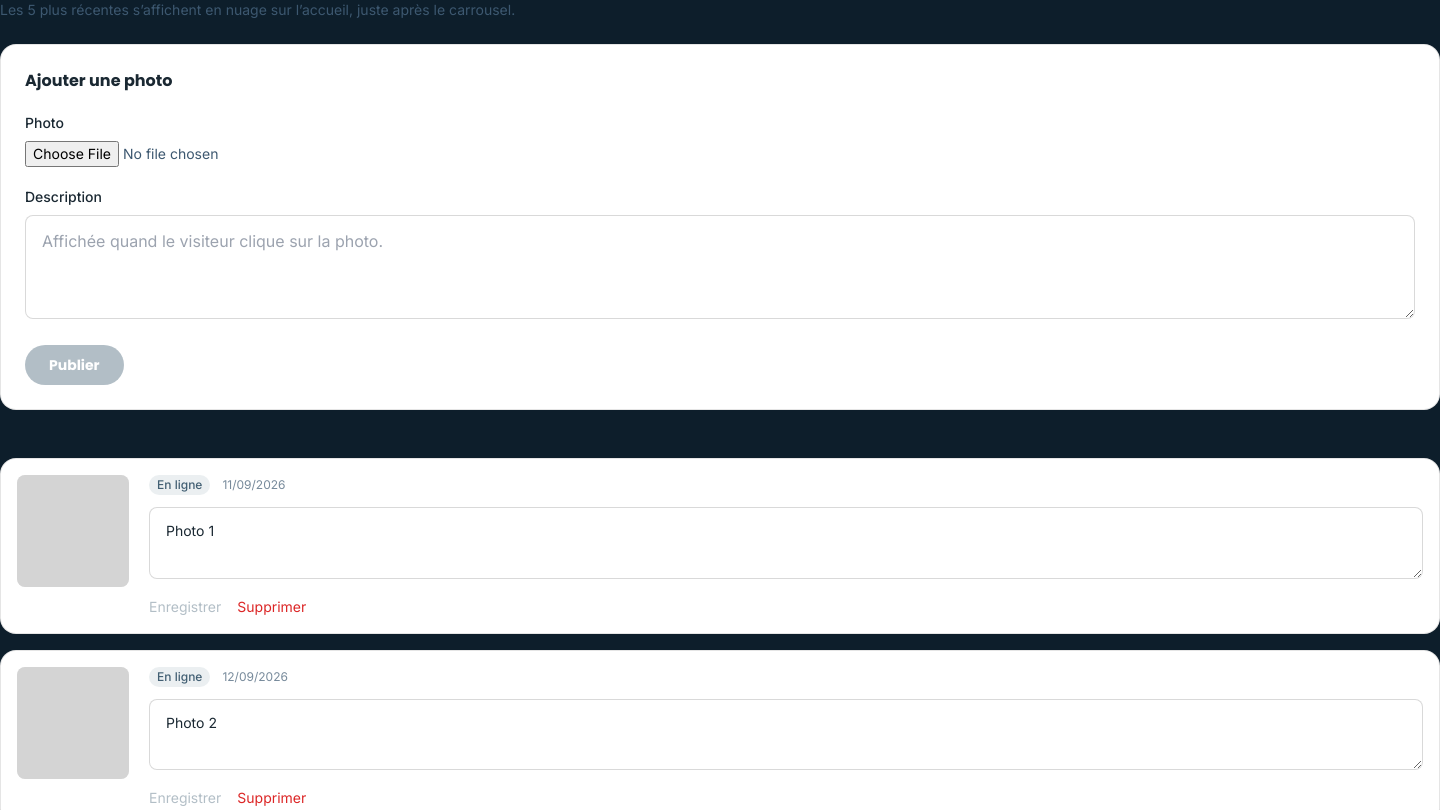
Test: signale, depuis le parent, que le fichier n’a pas pu être effacé après suppression
Click the button "Supprimer" below "11/09/2026" at [272, 606], box [237, 596, 306, 616]
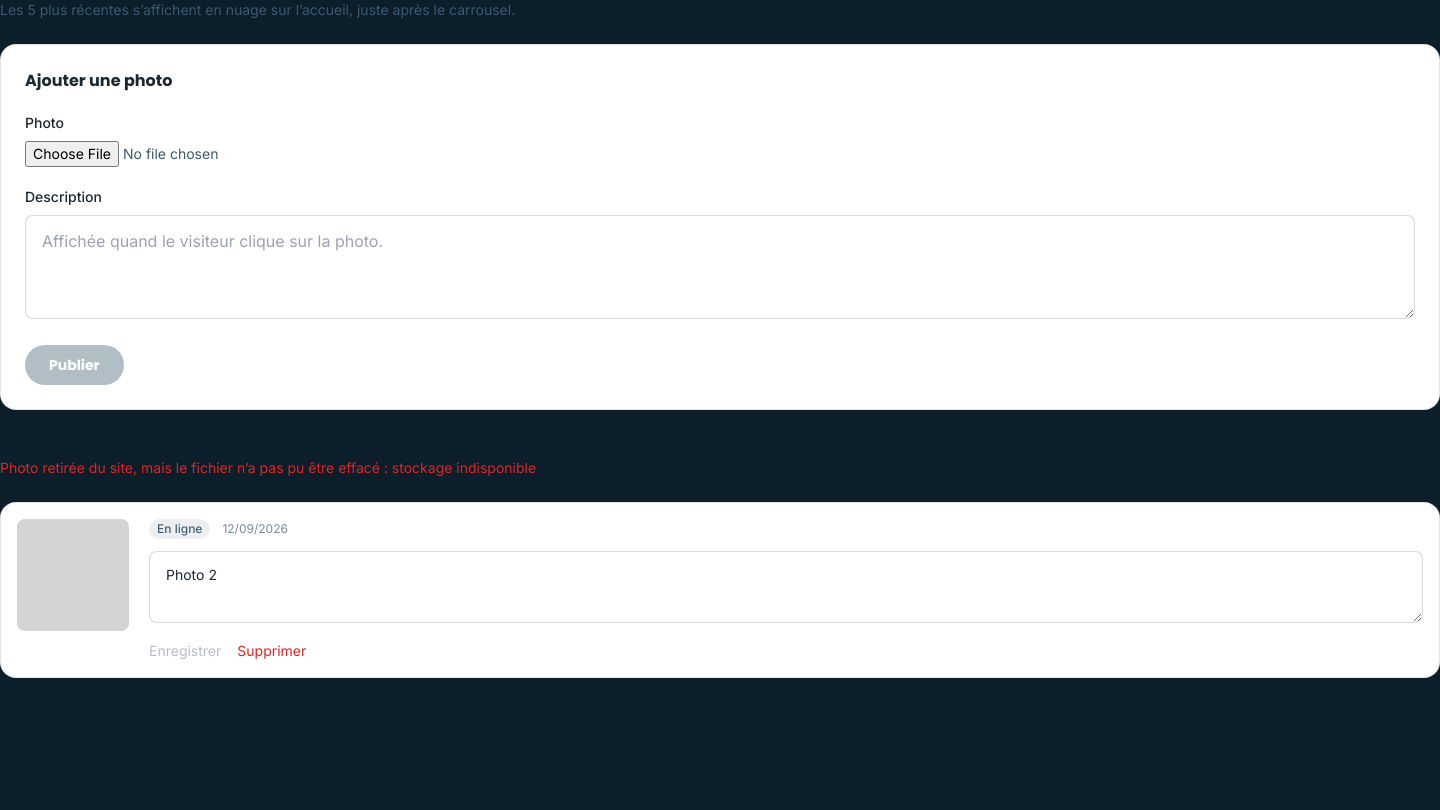
Now the message shows "Photo retirée du site, mais le fichier n’a pas pu être effacé : stockage indisponible", box [0, 459, 536, 476]
Now the number of list items is 1, box [0, 502, 1439, 678]
